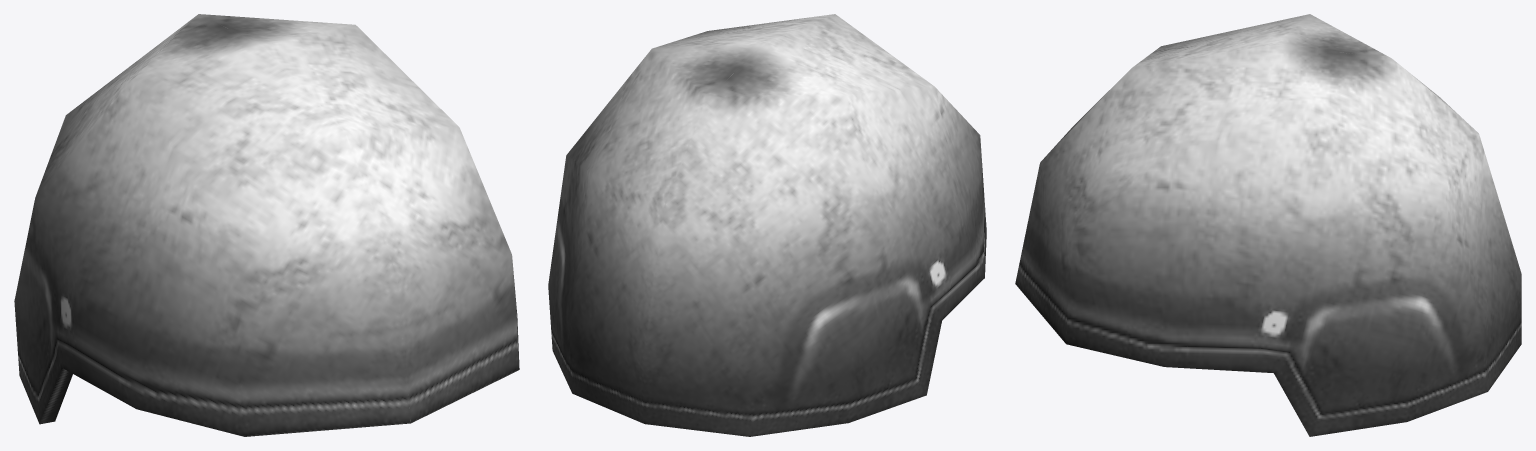
File: SholderArmor.fbx
3 views of the same model, side by side, from view 1: azimuth 30°, elevation 25°; view 2: azimuth 150°, elevation 25°; view 3: azimuth 270°, elevation 25° (orthographic). The views are drawn at different scales.
Parts seen in each view (by area): view 1: SholderArmor; view 2: SholderArmor; view 3: SholderArmor.
Part boxes in pixels (left/top/right/bottom): SholderArmor: left=14, top=14, right=519, bottom=436; SholderArmor: left=548, top=14, right=986, bottom=436; SholderArmor: left=1015, top=14, right=1521, bottom=436.
Size of the model in its own units: 105 by 83.19 by 126.
1 material, 1 textured.
